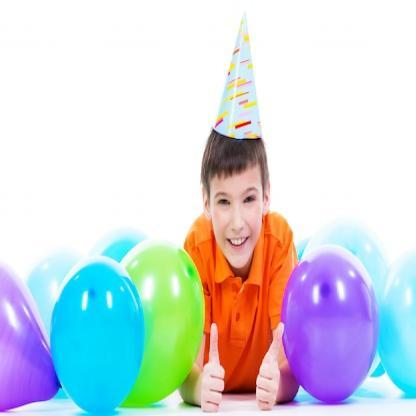thumb_up: (249, 318, 290, 412), (196, 320, 227, 414)
